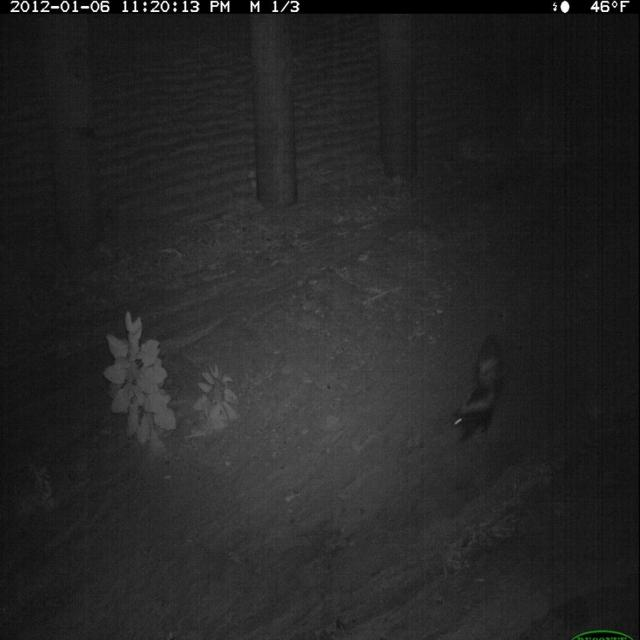skunk: (448, 328, 512, 452)
